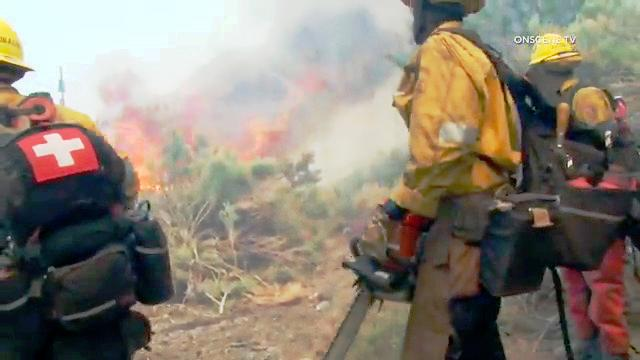fire: (199, 9, 360, 109)
